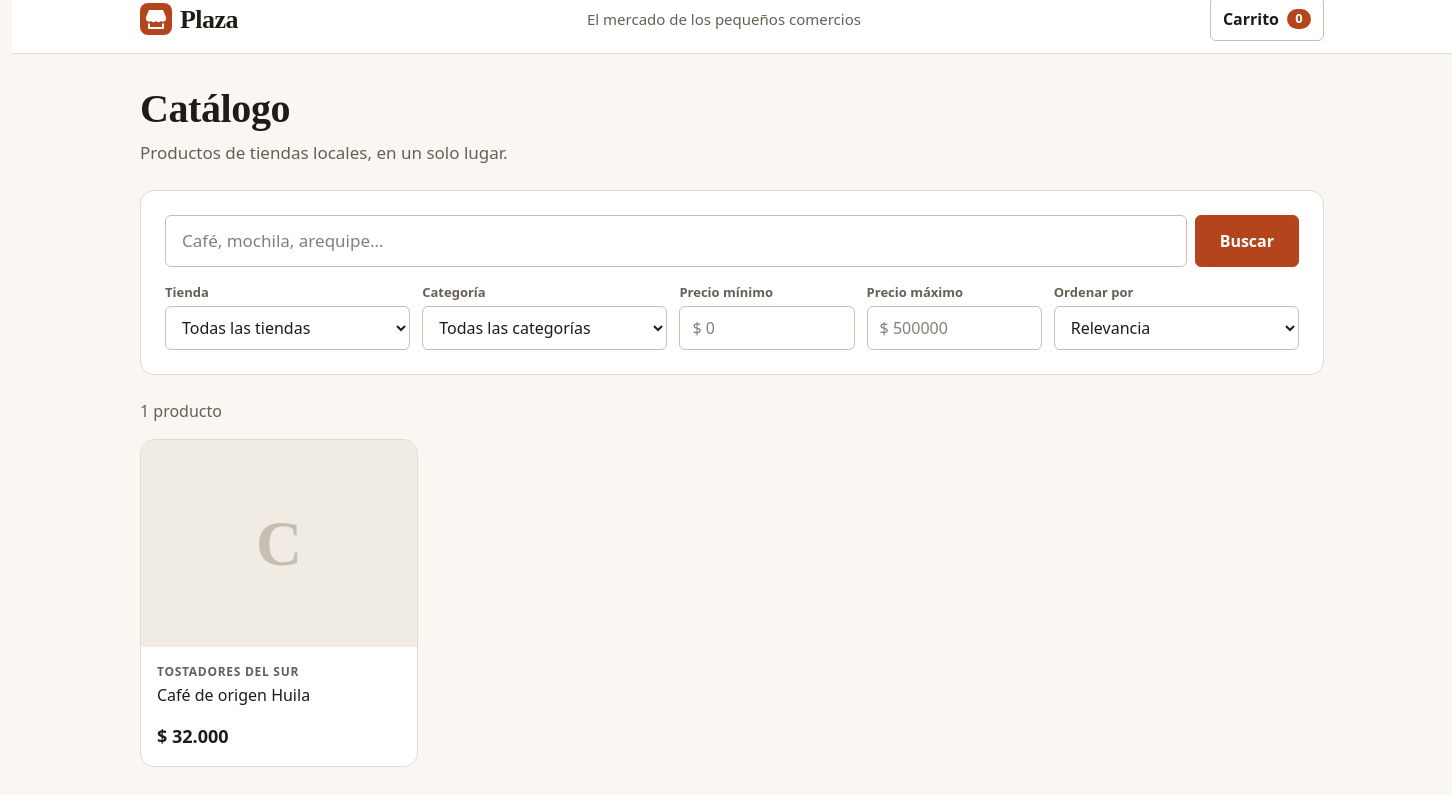
Test: CatalogPage › pressing Enter applies the search immediately
The image size is (1452, 795).
Expected: the heading "Café de origen Huila" is shown, [157, 684, 310, 706]
Type "panela" into the search field named "Buscar" at (676, 240), box [165, 214, 1187, 266]
Then press Enter
(page scrolled)
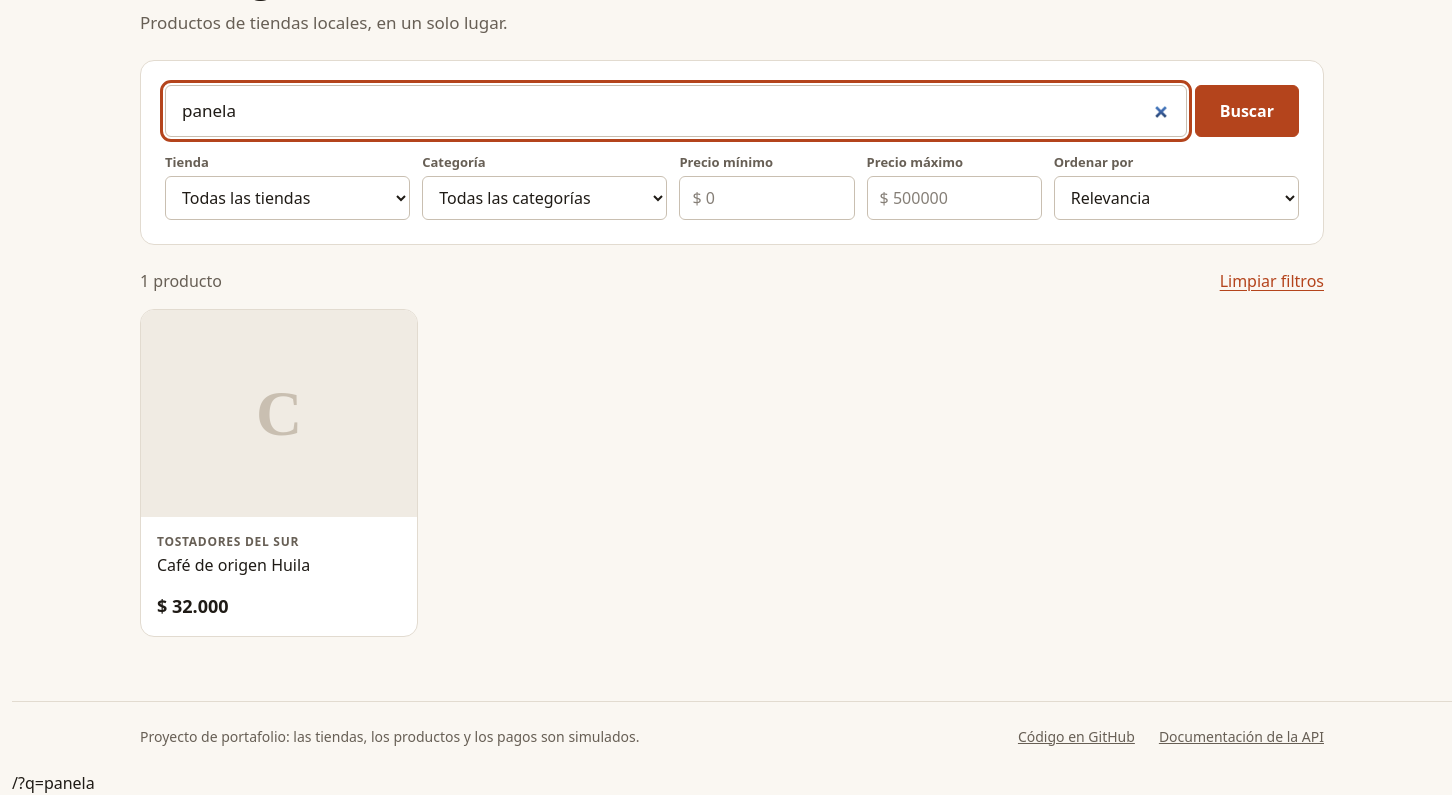
Expected: the text with test id "url" reads "/?q=panela", [12, 772, 95, 794]
